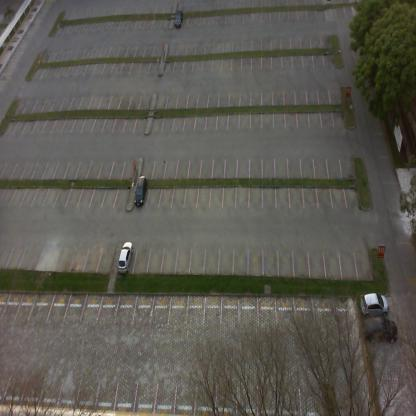car: (360, 288, 389, 318), (364, 317, 396, 344), (116, 238, 135, 274), (132, 174, 148, 210), (173, 8, 183, 28)
